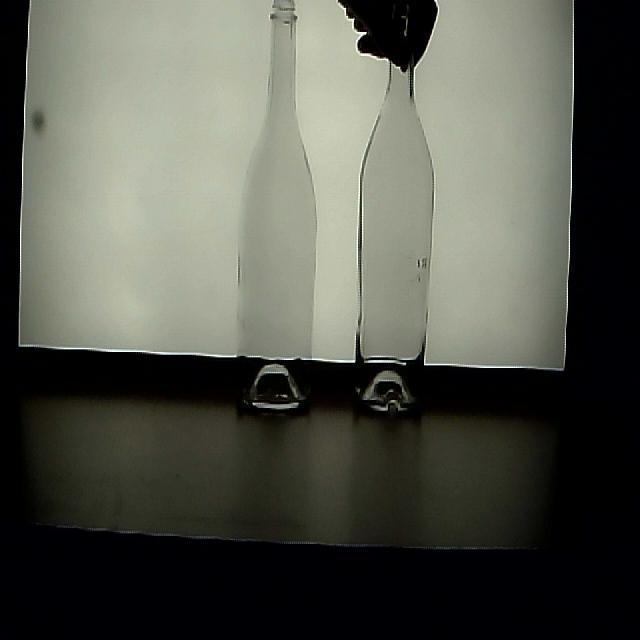BotolKaca: (237, 0, 315, 414), (358, 34, 432, 419)
